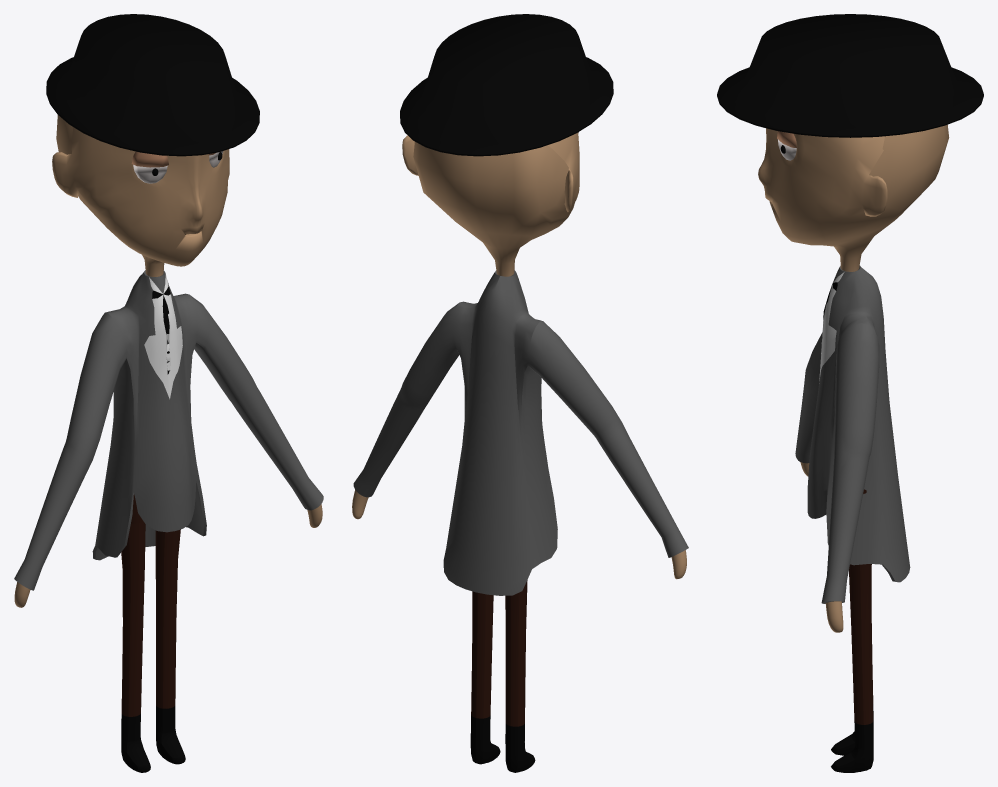
Rendered from clementine_servant.fbx.
3 renders of one model, left to right at view 1: azimuth 30°, elevation 25°; view 2: azimuth 150°, elevation 25°; view 3: azimuth 270°, elevation 25°, orthographic.
Visible parts, largest first — view 1: Cube_Cube.003, Cylinder.002, Cube_Cube.006, Cylinder.001, Sphere.003; view 2: Cube_Cube.003, Cylinder.002, Cube_Cube.006, Cylinder.001; view 3: Cylinder.002, Cube_Cube.003, Cube_Cube.006, Cylinder.001.
Part boxes in pixels (x1,y1,x2,y2): Cube_Cube.003: [14, 270, 323, 590]; Cylinder.002: [46, 14, 259, 156]; Cube_Cube.006: [14, 115, 322, 607]; Cylinder.001: [121, 494, 185, 772]; Sphere.003: [131, 151, 223, 183]; Cube_Cube.003: [353, 270, 688, 595]; Cylinder.002: [400, 14, 613, 156]; Cube_Cube.006: [352, 132, 686, 579]; Cylinder.001: [470, 580, 535, 772]; Cylinder.002: [717, 14, 983, 137]; Cube_Cube.003: [795, 265, 910, 603]; Cube_Cube.006: [758, 125, 949, 632]; Cylinder.001: [831, 489, 873, 772].
Bounding box in the file's own units: 139 × 297 × 99.91.
